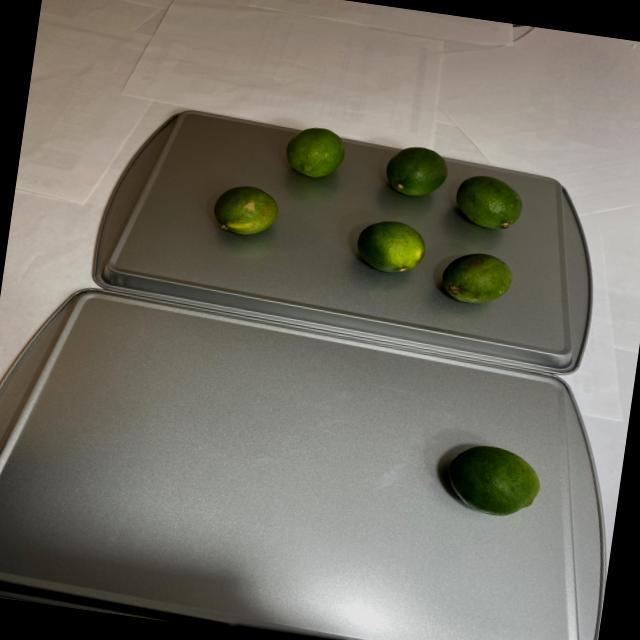lemon: (193, 119, 549, 314), (438, 439, 544, 524)
